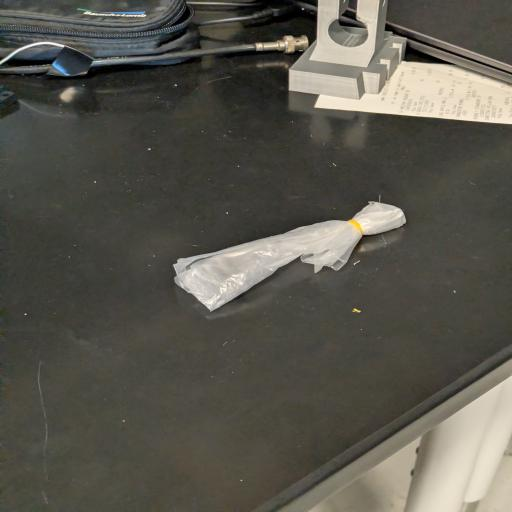rubberband: (166, 198, 412, 317)
